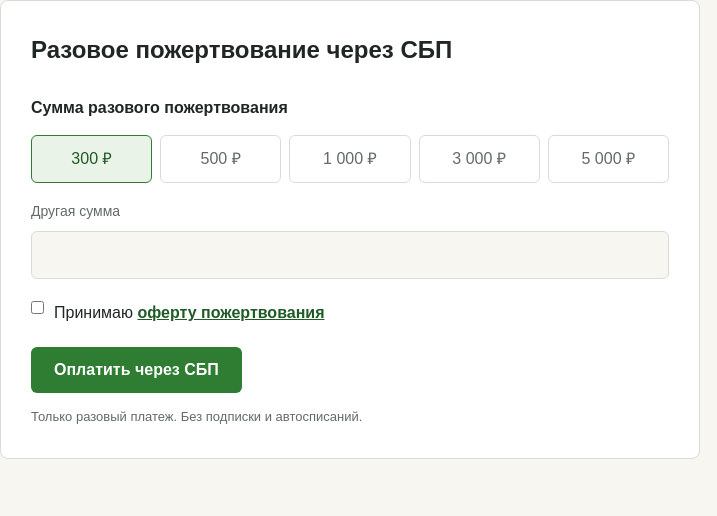
Test case: DonationForm › requires the offer and a valid custom amount
Type "50" into the number field labelled "Другая сумма". click: (350, 255)
box: [31, 231, 669, 279]
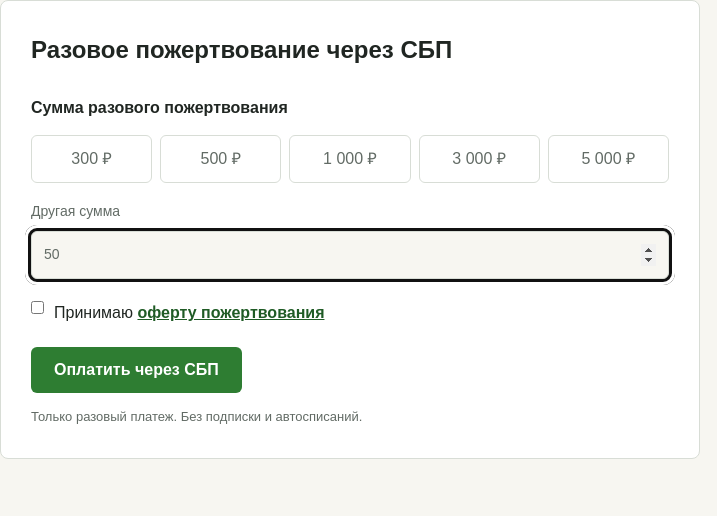
Click the button "Оплатить через СБП". click: (136, 370)
box: [31, 348, 242, 394]
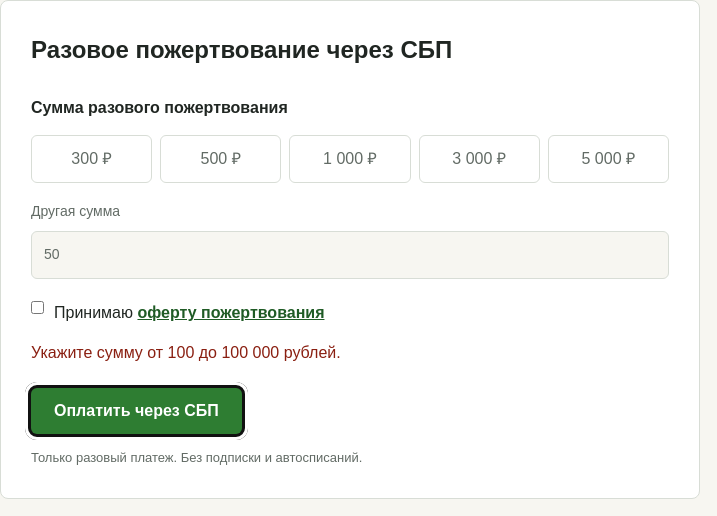
Check: the message reads "Укажите сумму от 100 до 100 000 рублей.", box [31, 344, 341, 362]
